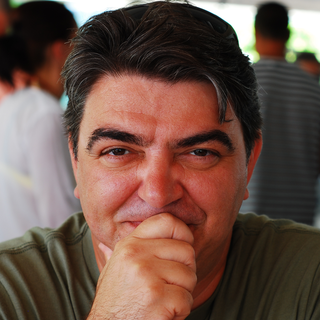eye: (179, 140, 227, 164), (95, 140, 140, 165)
